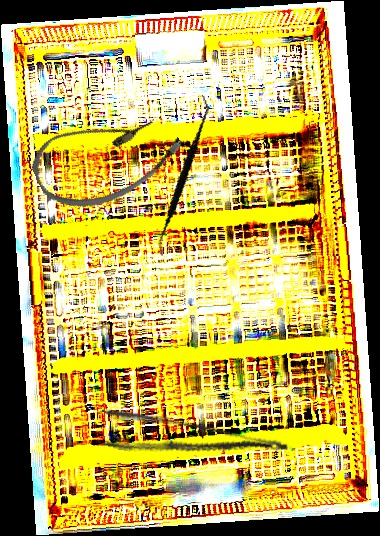Cannula: (23, 88, 191, 226)
Dressing Forceps: (98, 405, 292, 482)
Spatula Surgical: (124, 94, 241, 257)
